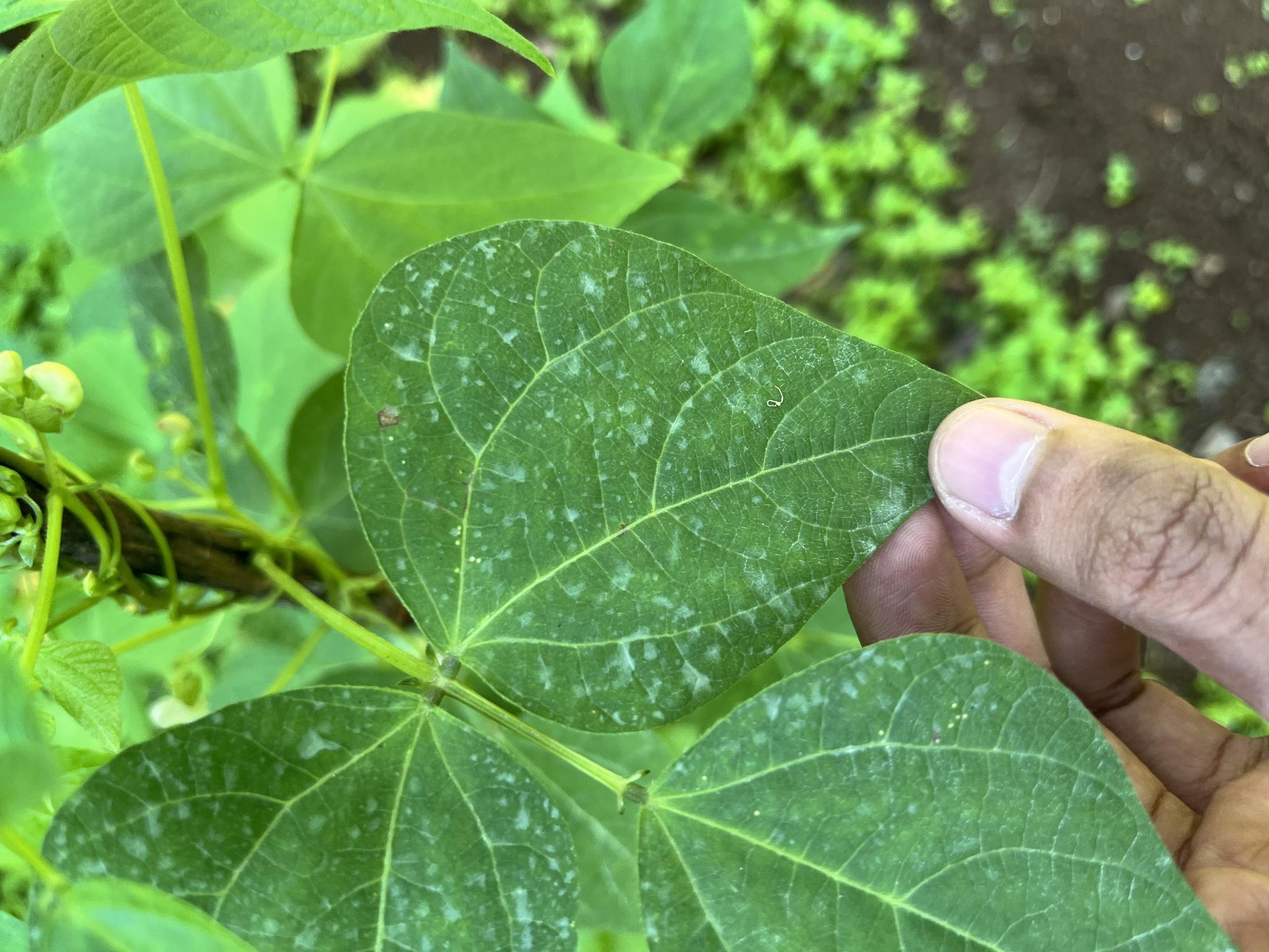embun tepung: (346, 228, 982, 724)
